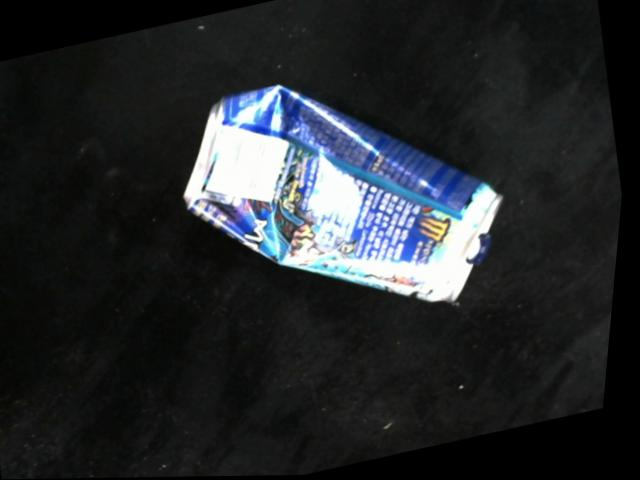can: (183, 78, 511, 311)
